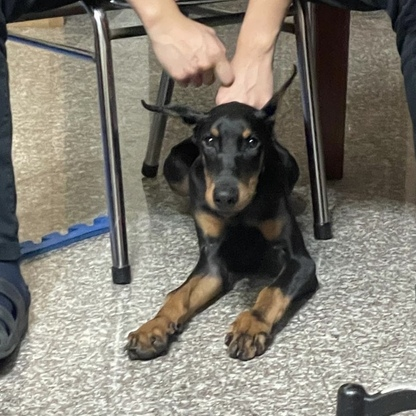doberman: (118, 65, 322, 372)
